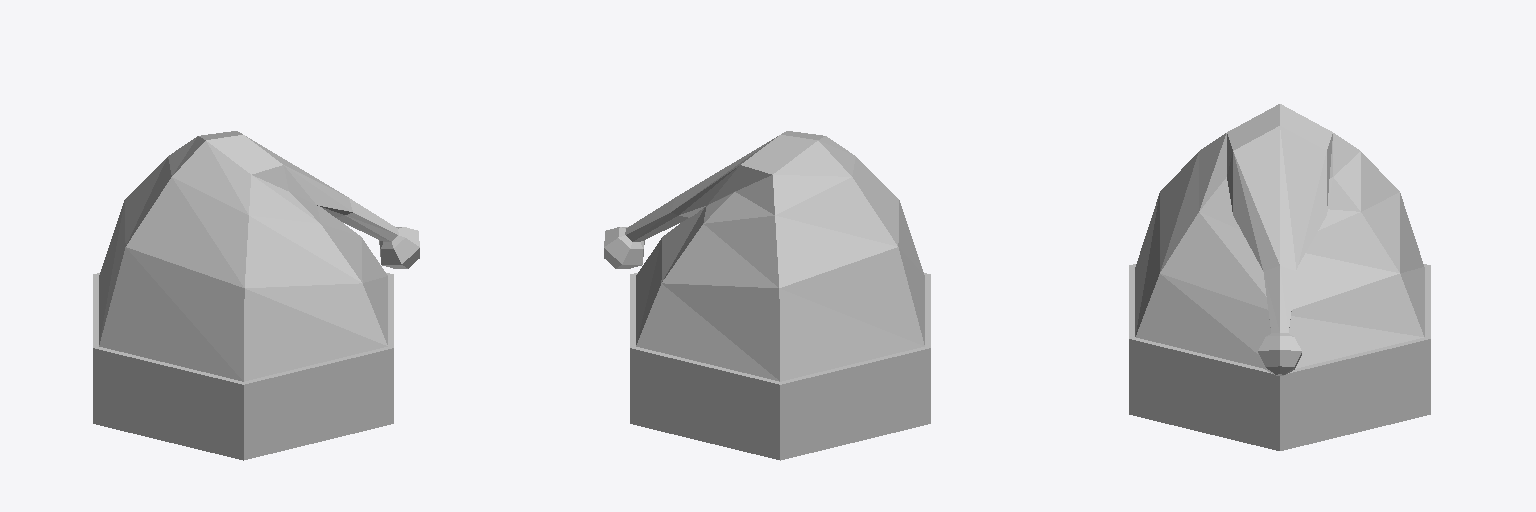
The model's file is uploads_files_2199346_Santa_Hat__corona.obj.
3 views of the same model, side by side, from view 1: azimuth 30°, elevation 25°; view 2: azimuth 150°, elevation 25°; view 3: azimuth 270°, elevation 25° (orthographic).
Visible parts, largest first — view 1: Santa_Hat_002, Santa_Hat_004, Santa_Hat_003; view 2: Santa_Hat_002, Santa_Hat_004, Santa_Hat_003; view 3: Santa_Hat_002, Santa_Hat_004, Santa_Hat_003.
Part boxes in pixels (left/top/right/bottom): Santa_Hat_002: left=99, top=131, right=398, bottom=381; Santa_Hat_004: left=93, top=273, right=393, bottom=460; Santa_Hat_003: left=379, top=227, right=419, bottom=268; Santa_Hat_002: left=625, top=131, right=924, bottom=381; Santa_Hat_004: left=630, top=273, right=930, bottom=460; Santa_Hat_003: left=604, top=227, right=644, bottom=268; Santa_Hat_002: left=1135, top=104, right=1424, bottom=368; Santa_Hat_004: left=1129, top=264, right=1430, bottom=450; Santa_Hat_003: left=1258, top=333, right=1301, bottom=375.
Bounding box in the file's own units: 51.99 × 38.93 × 41.59.